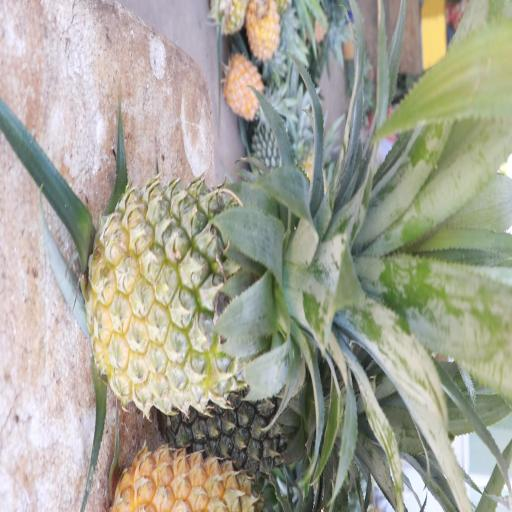------------------------------: (89, 181, 307, 408)
Pineapple - v8 v1: (220, 49, 267, 121), (245, 0, 286, 63)
